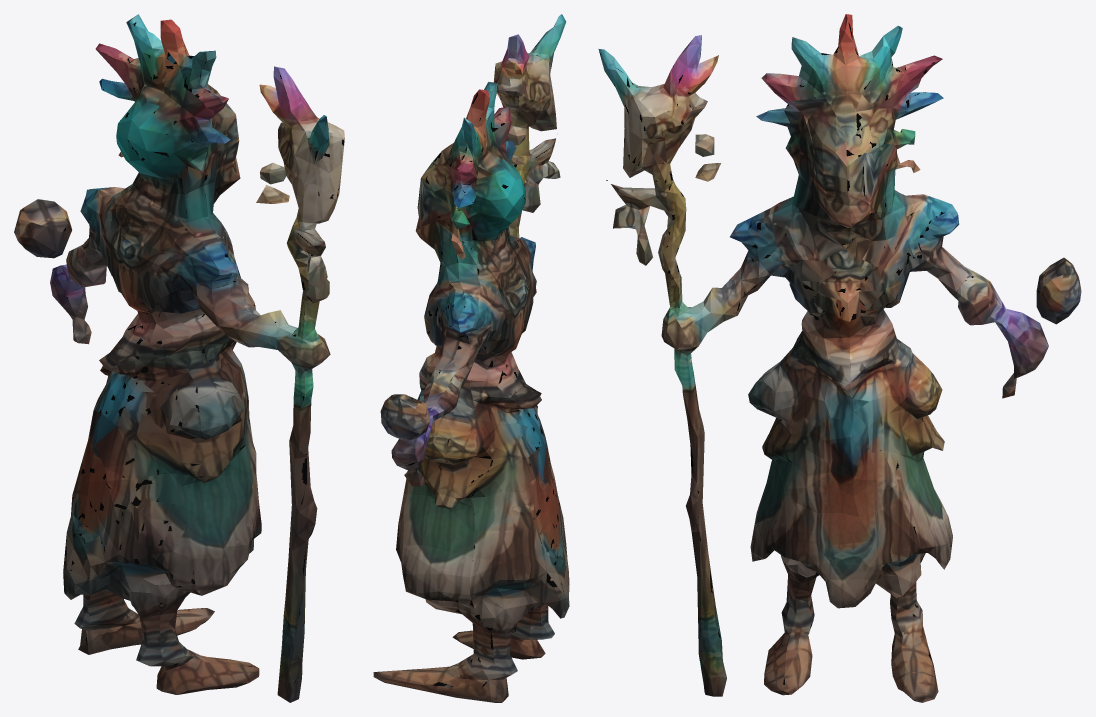
Rendered from minion_support_2.glb.
3 renders of one model, left to right at view 1: azimuth 30°, elevation 25°; view 2: azimuth 150°, elevation 25°; view 3: azimuth 270°, elevation 25°, orthographic. The views are drawn at different scales.
Visible parts, largest first — view 1: test (25); view 2: test (25); view 3: test (25).
Part boxes in pixels (bbox=[...]): test (25): bbox=[14, 14, 344, 702]; test (25): bbox=[373, 14, 569, 702]; test (25): bbox=[598, 14, 1081, 702].
Bounding box in the file's own units: 0.6598 × 2.27 × 1.52.
Materials: 1 (1 with a texture image).
